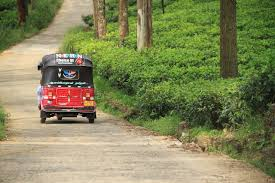tuk tuk: (35, 52, 97, 127)
